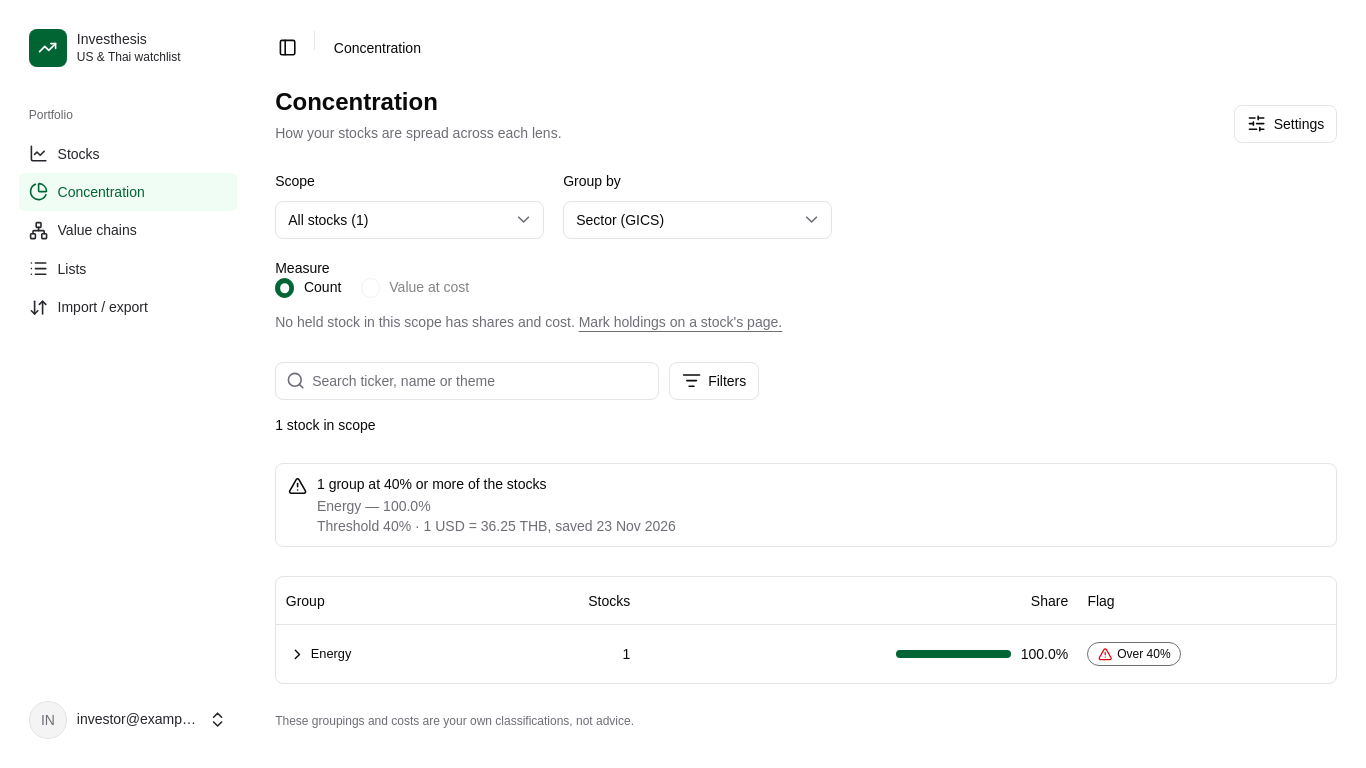
Test case: concentration settings dialog › TC-C-428: content, openers, focus and Esc, with a saved rate
The image size is (1366, 768).
Expected: the heading "Concentration" is shown, [275,88,438,115]
Click the button "Settings" at (1286, 124), box [1234,105,1337,143]
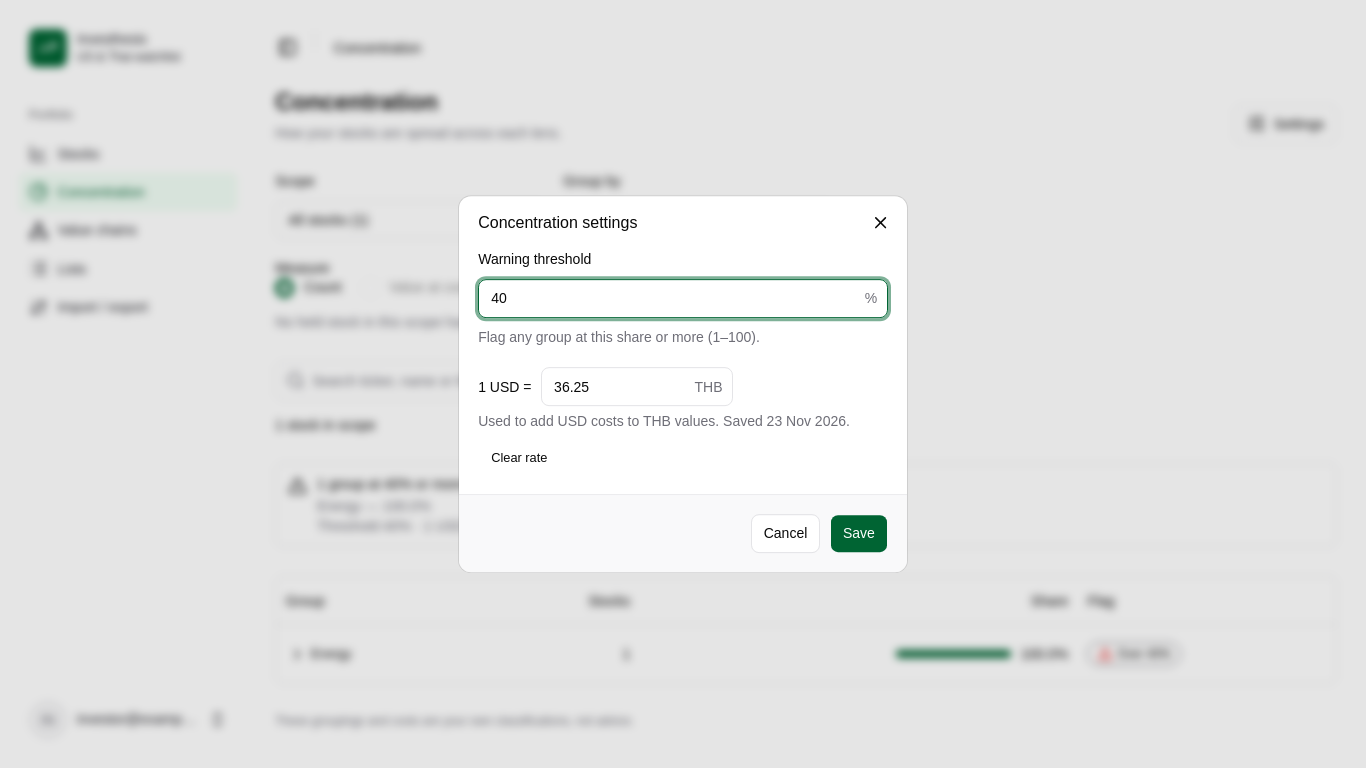
Expected: the text "1 USD =" is shown, [478,377,532,397]
Expected: the field labelled "Warning threshold" holds "40", [479,279,865,318]
Expected: the field named "Exchange rate, THB per 1 USD" holds "36.25", [542,368,694,406]
Press Escape
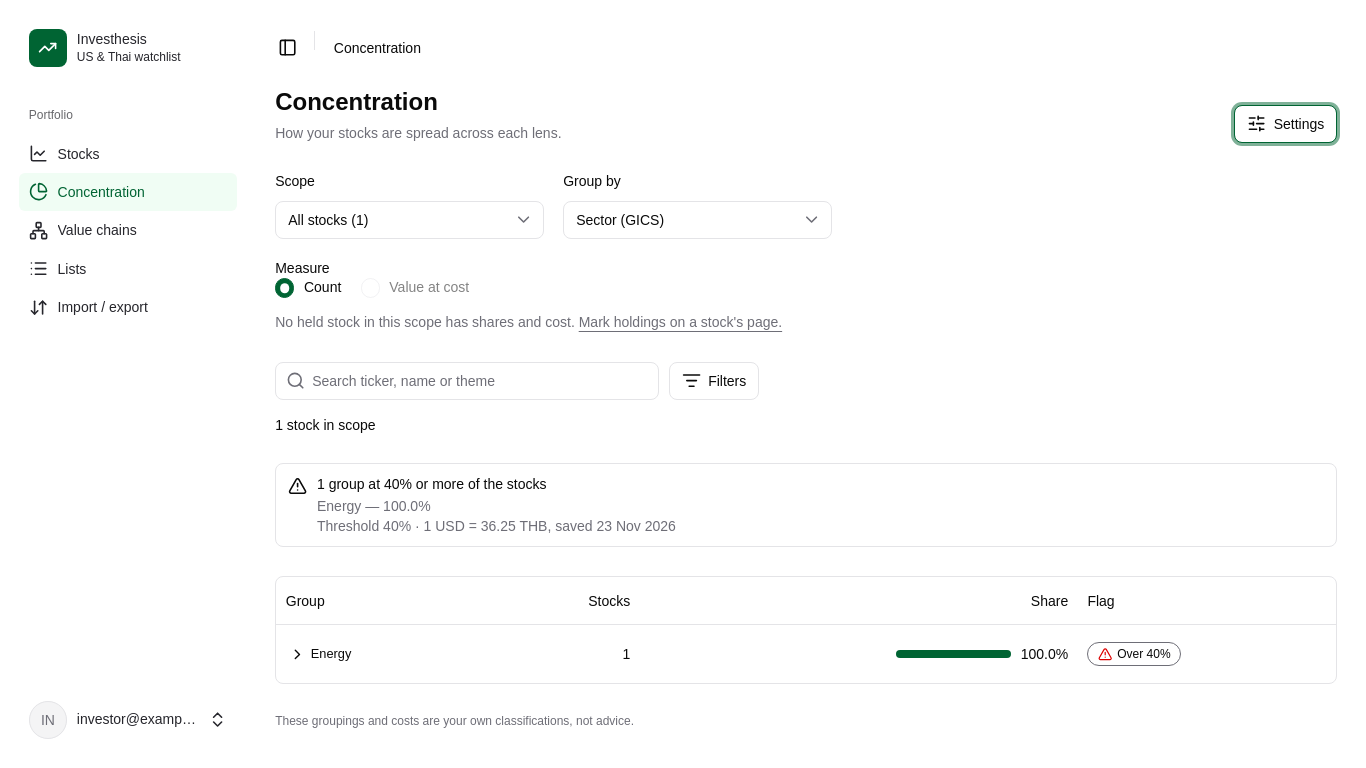
Expected: the dialog is gone
